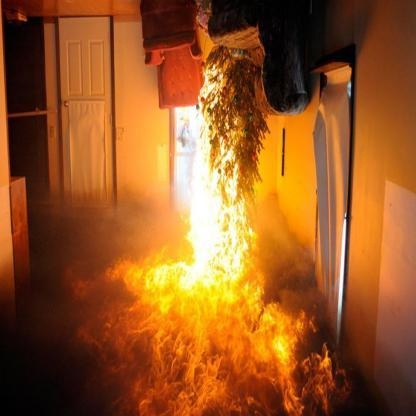fire: (105, 48, 347, 413)
